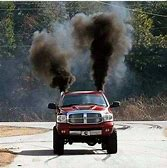smoke: (76, 13, 130, 90), (29, 31, 74, 90)
